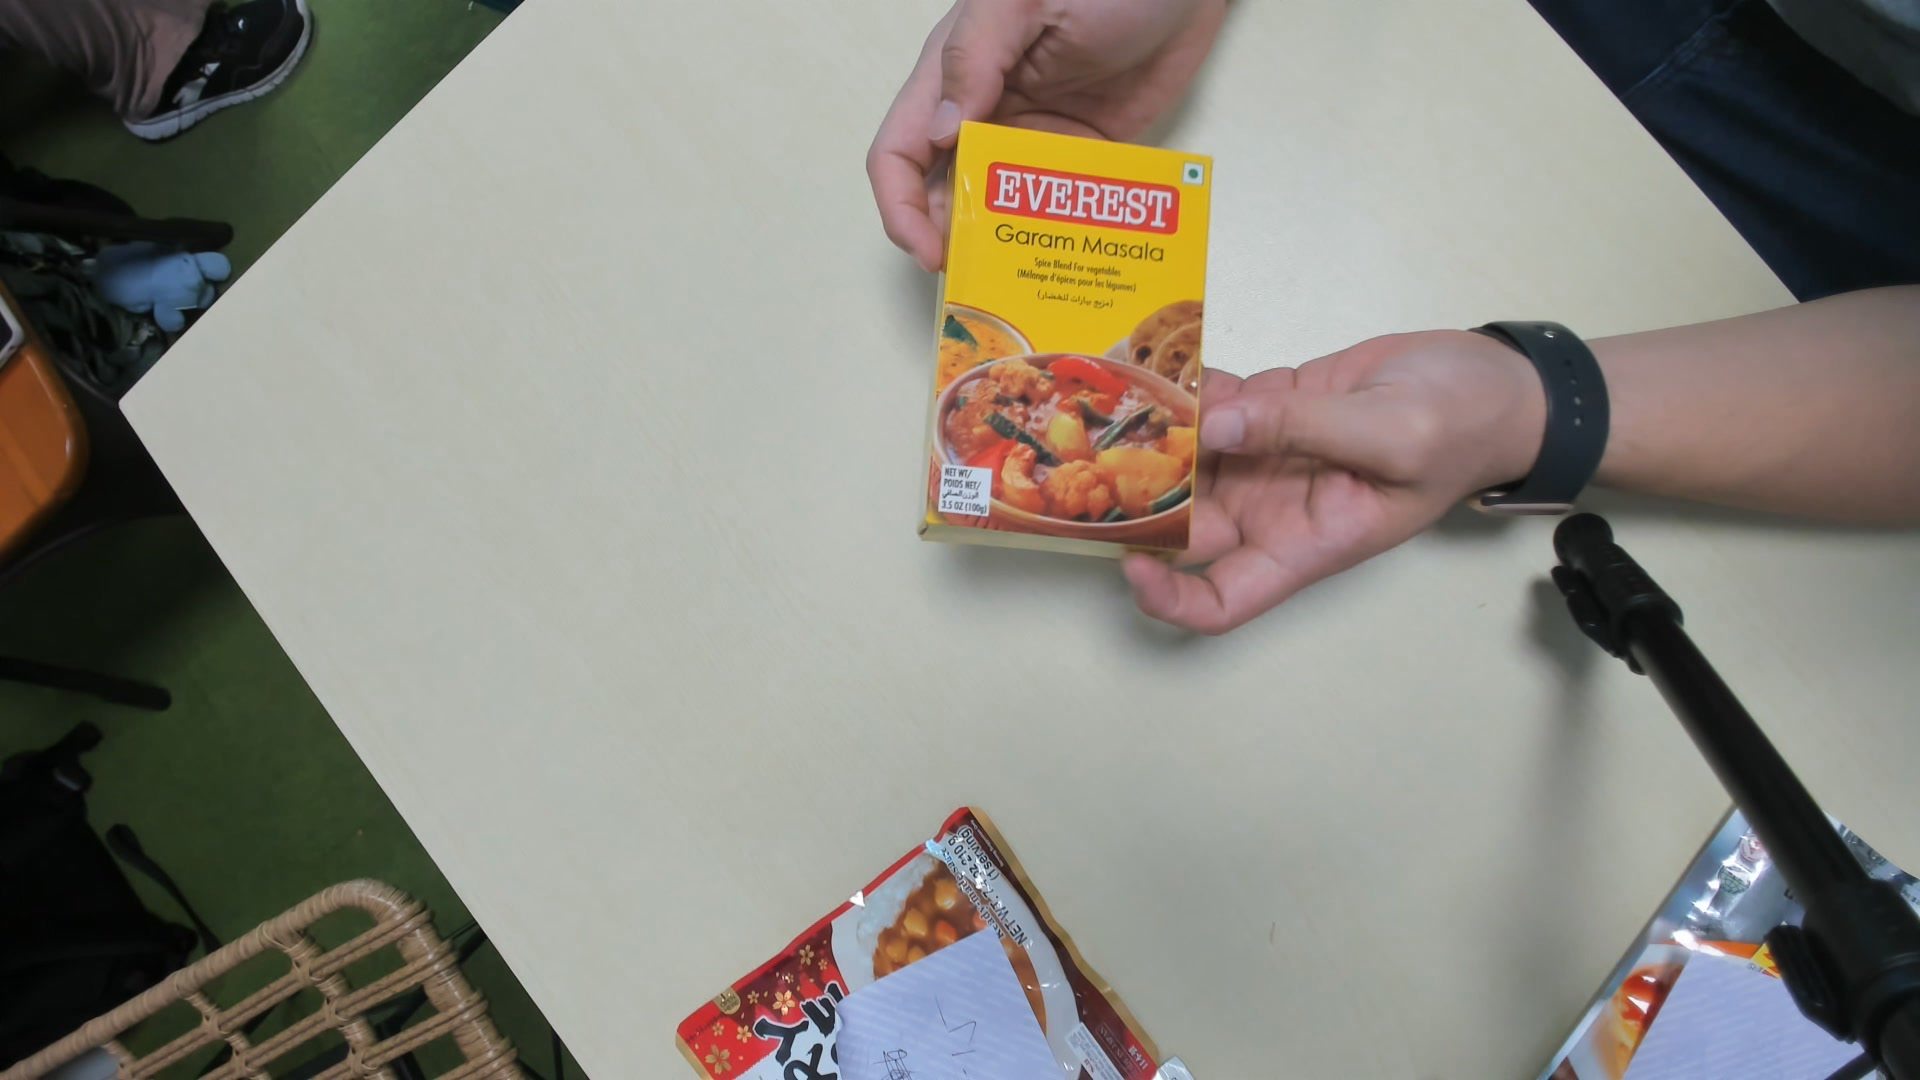CurryPastePowderSauce_100-199g_NonHalal_NonHealthy: (922, 115, 1211, 555)
